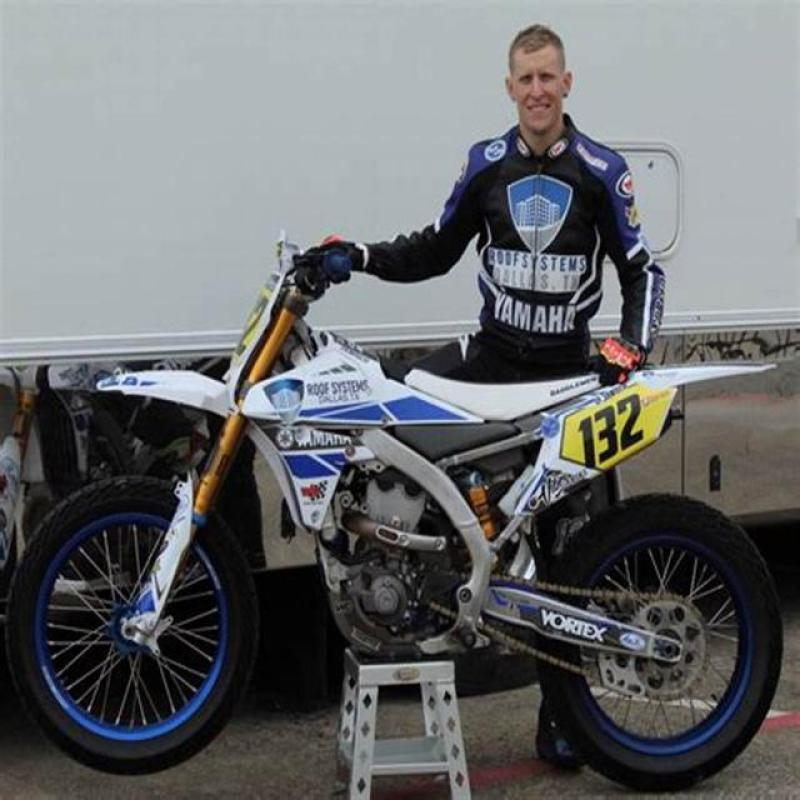nohelmet: (497, 27, 581, 136)
